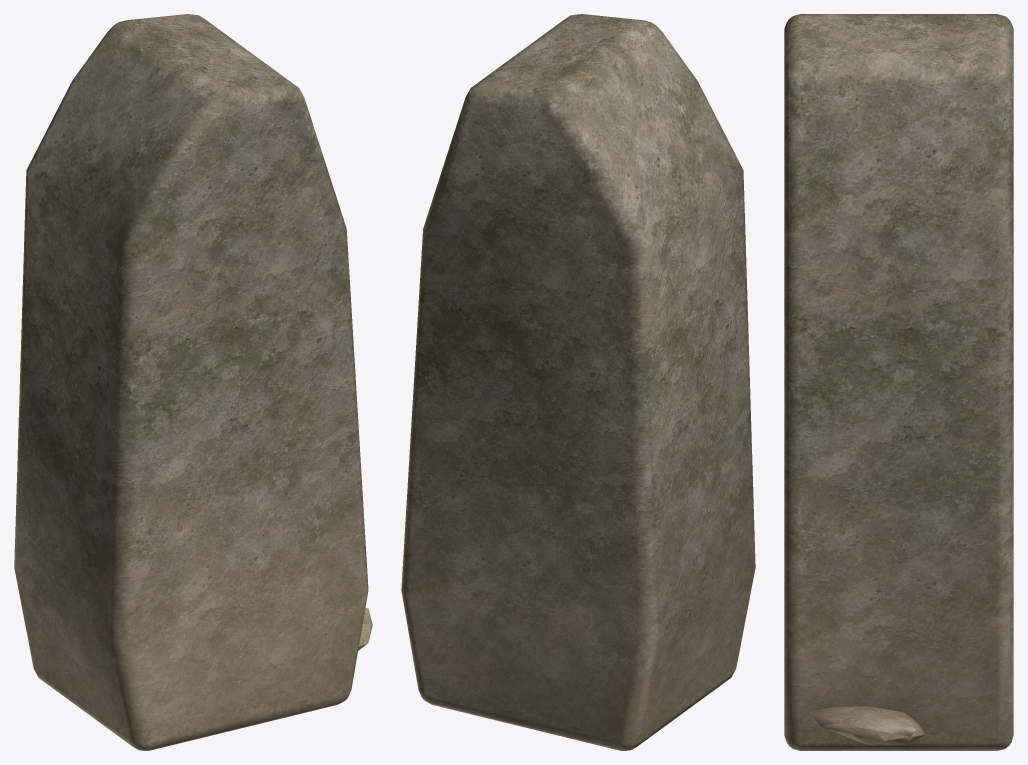
Rendered from marker_right.glb.
3 views of the same model, side by side, from view 1: azimuth 30°, elevation 25°; view 2: azimuth 150°, elevation 25°; view 3: azimuth 270°, elevation 25° (orthographic). The views are drawn at different scales.
Visible parts, largest first — view 1: Worn sigil marker.001; view 2: Worn sigil marker.001; view 3: Worn sigil marker.001.
Boxes of the visible parts, x1,y1,x2,y2 form: Worn sigil marker.001: (14, 14, 372, 750); Worn sigil marker.001: (401, 14, 755, 750); Worn sigil marker.001: (784, 14, 1013, 750).
Bounding box in the file's own units: 1.22 × 2.53 × 0.78.
1 material, 1 textured.
